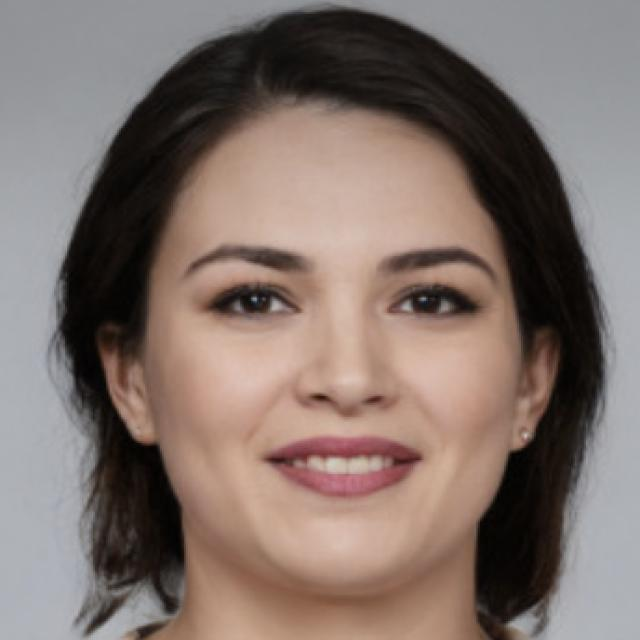happy: (61, 9, 545, 615)
